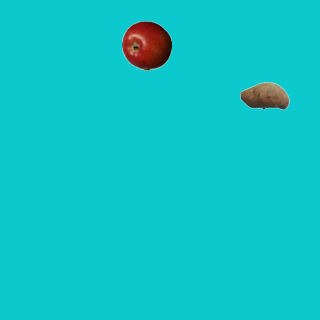Apple Braeburn: (121, 20, 171, 70)
Potato Sweet: (239, 70, 289, 120)
